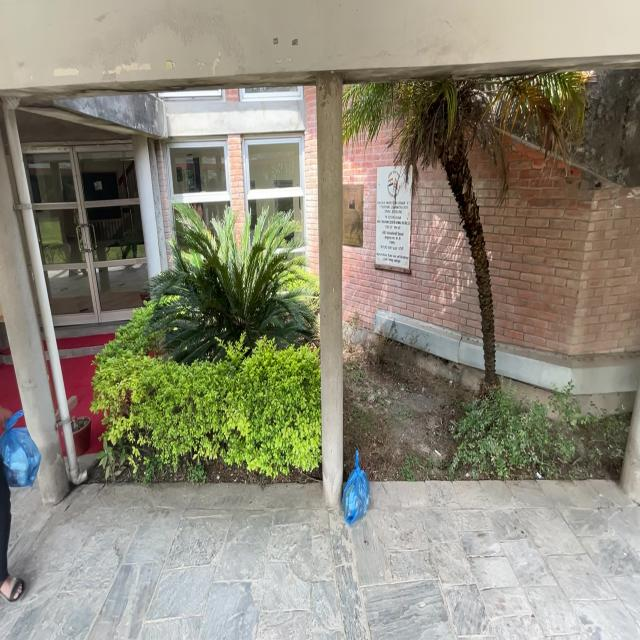carryload: (0, 390, 41, 500)
garbage: (335, 449, 376, 526)
